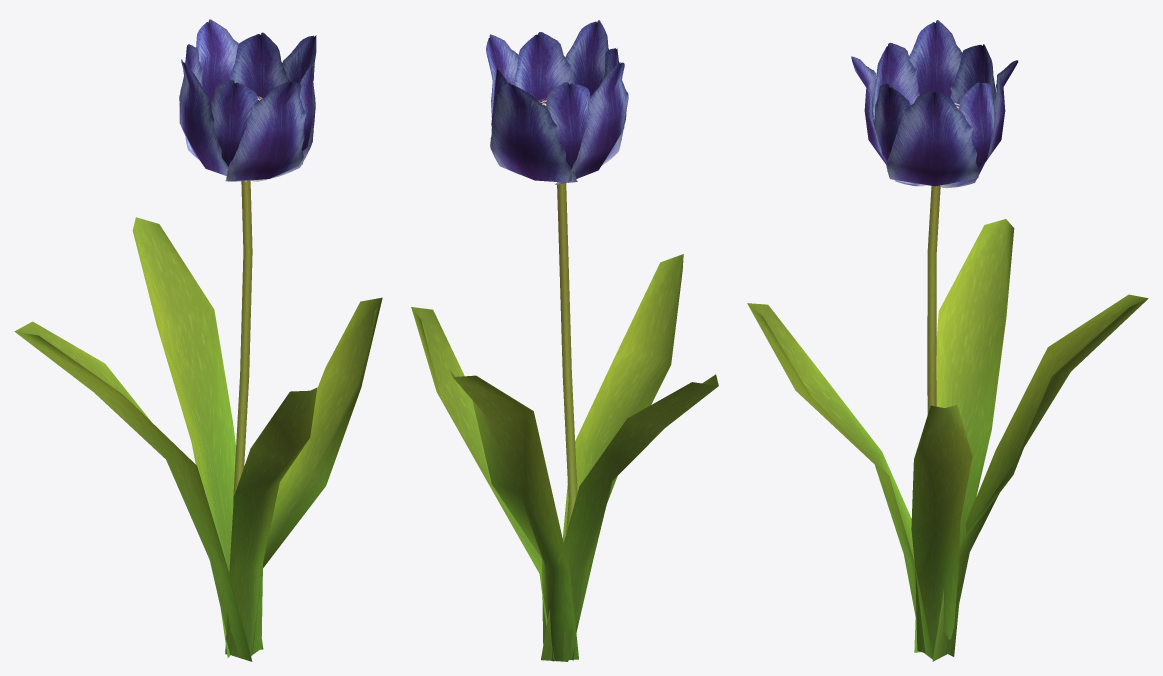
Rendered from m_flower13.fbx.
3 renders of one model, left to right at view 1: azimuth 30°, elevation 25°; view 2: azimuth 150°, elevation 25°; view 3: azimuth 270°, elevation 25°, orthographic.
Visible parts, largest first — view 1: mesh_flower13; view 2: mesh_flower13; view 3: mesh_flower13.
Boxes of the visible parts, <box> form: mesh_flower13: <box>14,19,382,661</box>; mesh_flower13: <box>411,20,718,661</box>; mesh_flower13: <box>747,20,1148,661</box>.
Bounding box in the file's own units: 0.2416 × 0.4208 × 0.2509.
1 material, 1 textured.
